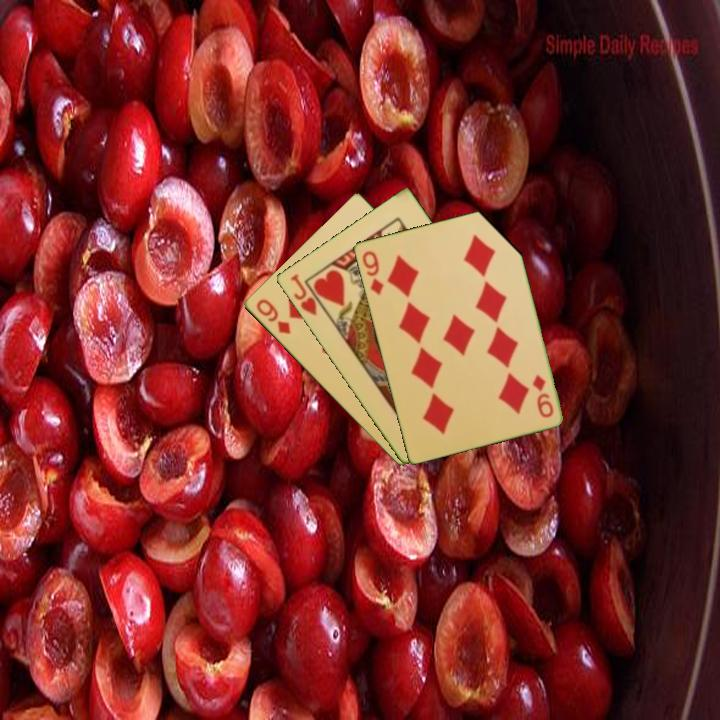9d: (252, 295, 293, 337), (358, 247, 386, 298), (528, 371, 556, 421)
Jh: (286, 270, 319, 319)
